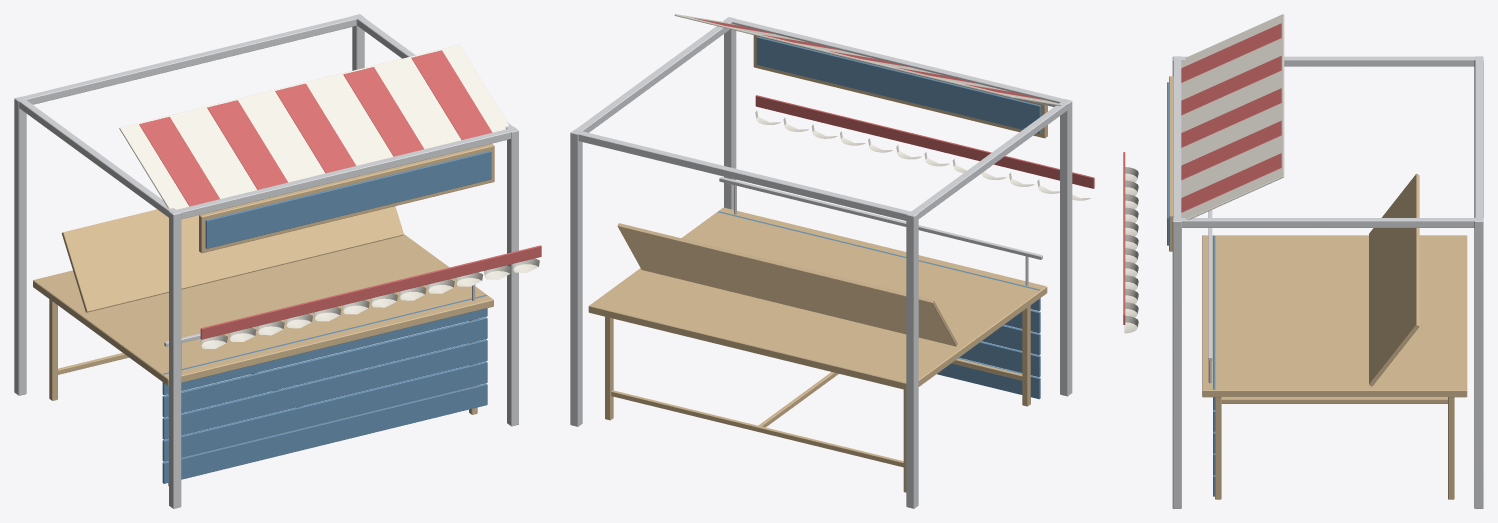
The model's file is indoor-market-hall-and-traders-open-stall-unit-blue-7bc77762.glb.
3 renders of one model, left to right at view 1: azimuth 30°, elevation 25°; view 2: azimuth 150°, elevation 25°; view 3: azimuth 270°, elevation 25°, orthographic. The views are drawn at different scales.
Visible parts, largest first — view 1: open-stall-unit-blue; view 2: open-stall-unit-blue; view 3: open-stall-unit-blue.
Part boxes in pixels (box(x1,y1,x2,y2)): open-stall-unit-blue: box(14, 14, 541, 508); open-stall-unit-blue: box(570, 14, 1094, 508); open-stall-unit-blue: box(1123, 14, 1483, 508).
Bounding box in the file's own units: 2.95 × 2.76 × 2.72.
